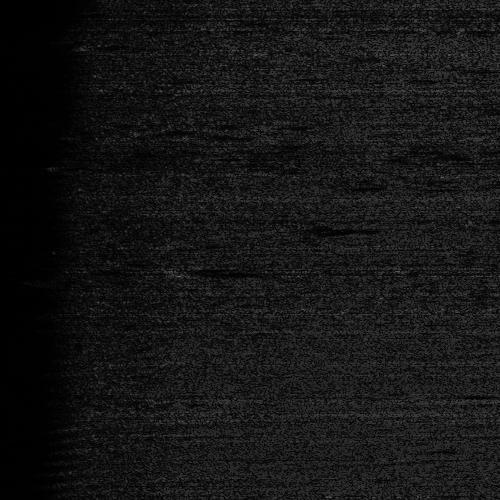object: (227, 225, 310, 234), (156, 266, 197, 275)
shadow: (177, 266, 277, 275), (269, 225, 354, 234)
